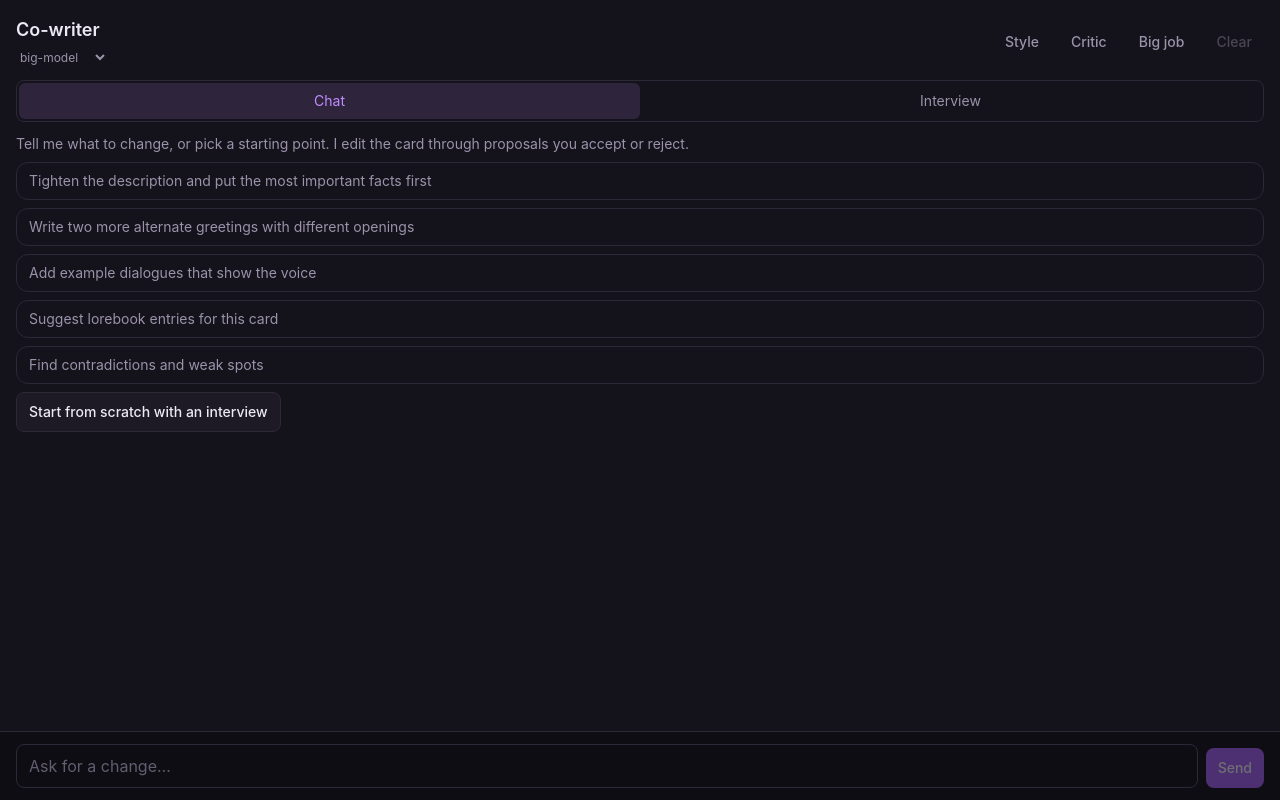
Test: co-writer › shows errors and keeps the chat usable
Type "Hello" into the text box named "Message to the co-writer" at (607, 766), box [16,744,1198,788]
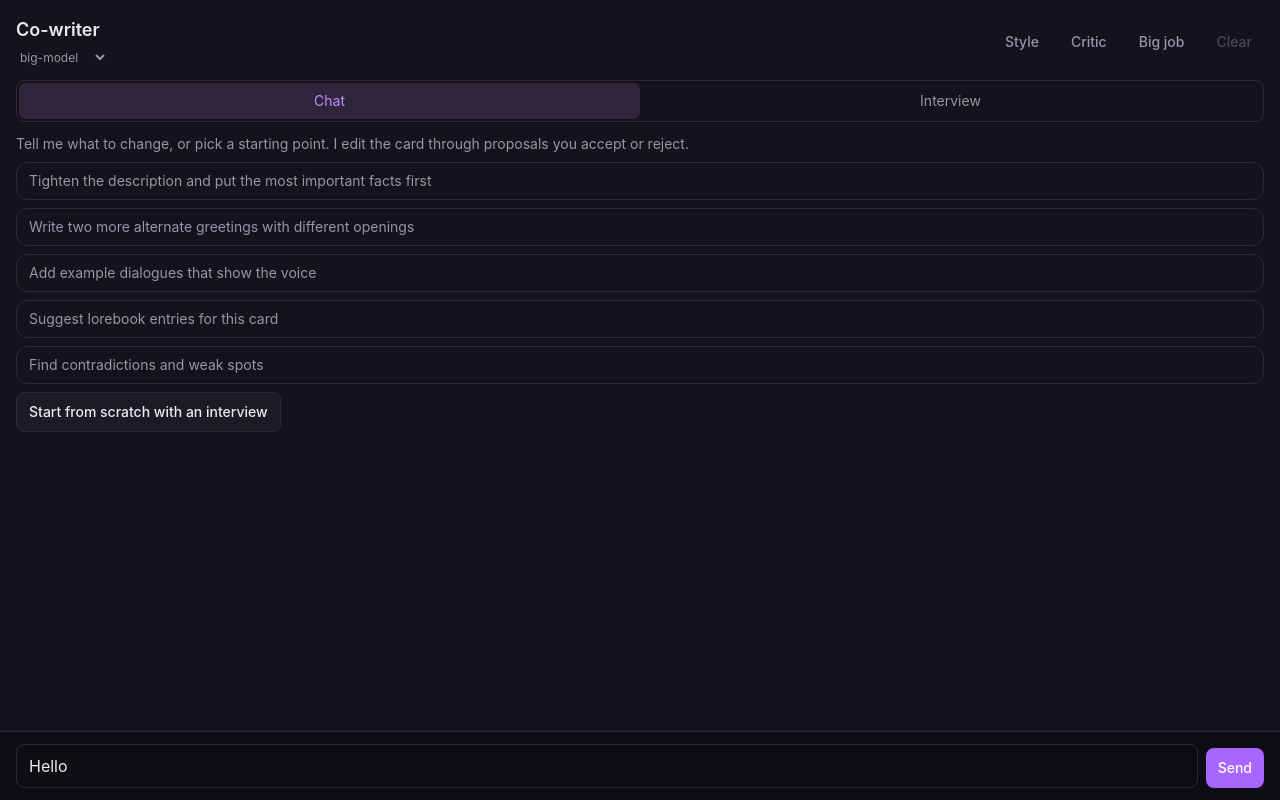
Click the button "Send" at (1235, 768), box [1206,748,1264,788]
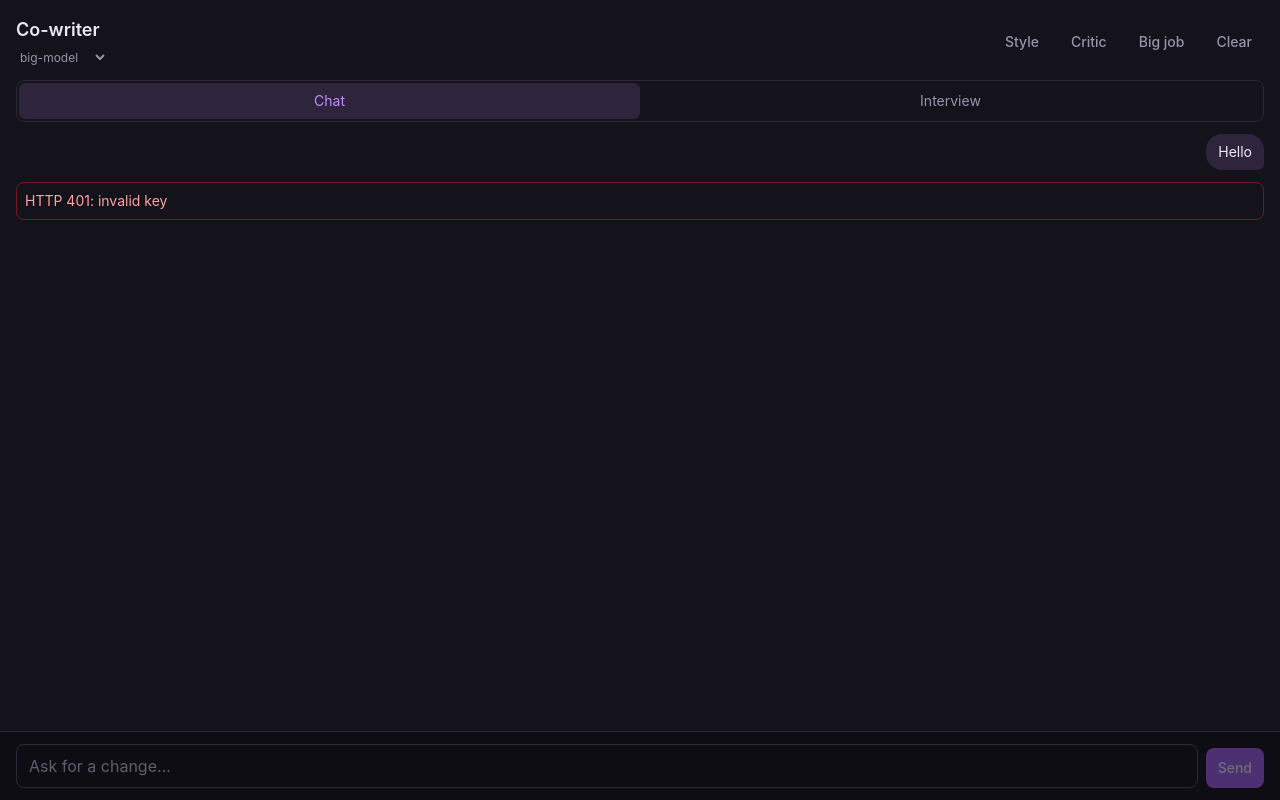
Check: the message shows "invalid key", box [25,192,167,209]
Type "Hello again" into the text box named "Message to the co-writer" at (607, 766), box [16,744,1198,788]
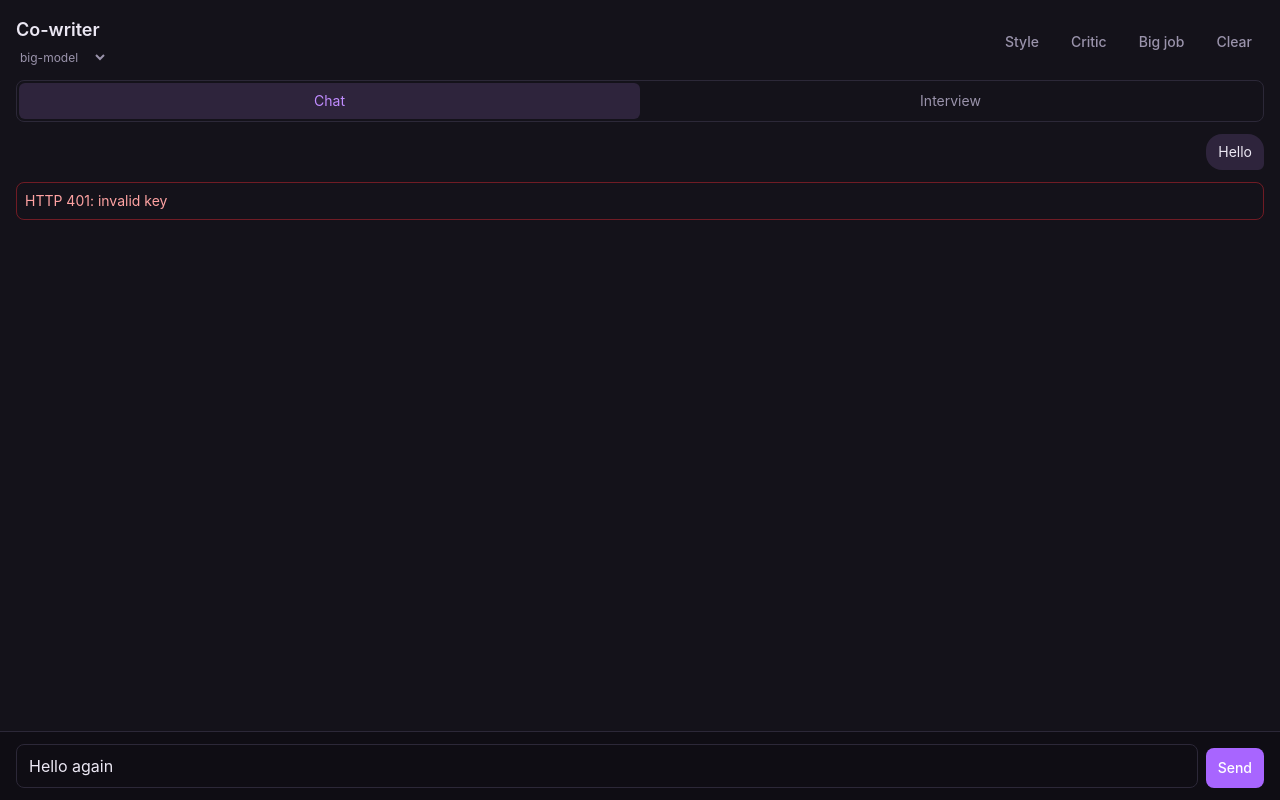
Click the button "Send" at (1235, 768), box [1206,748,1264,788]
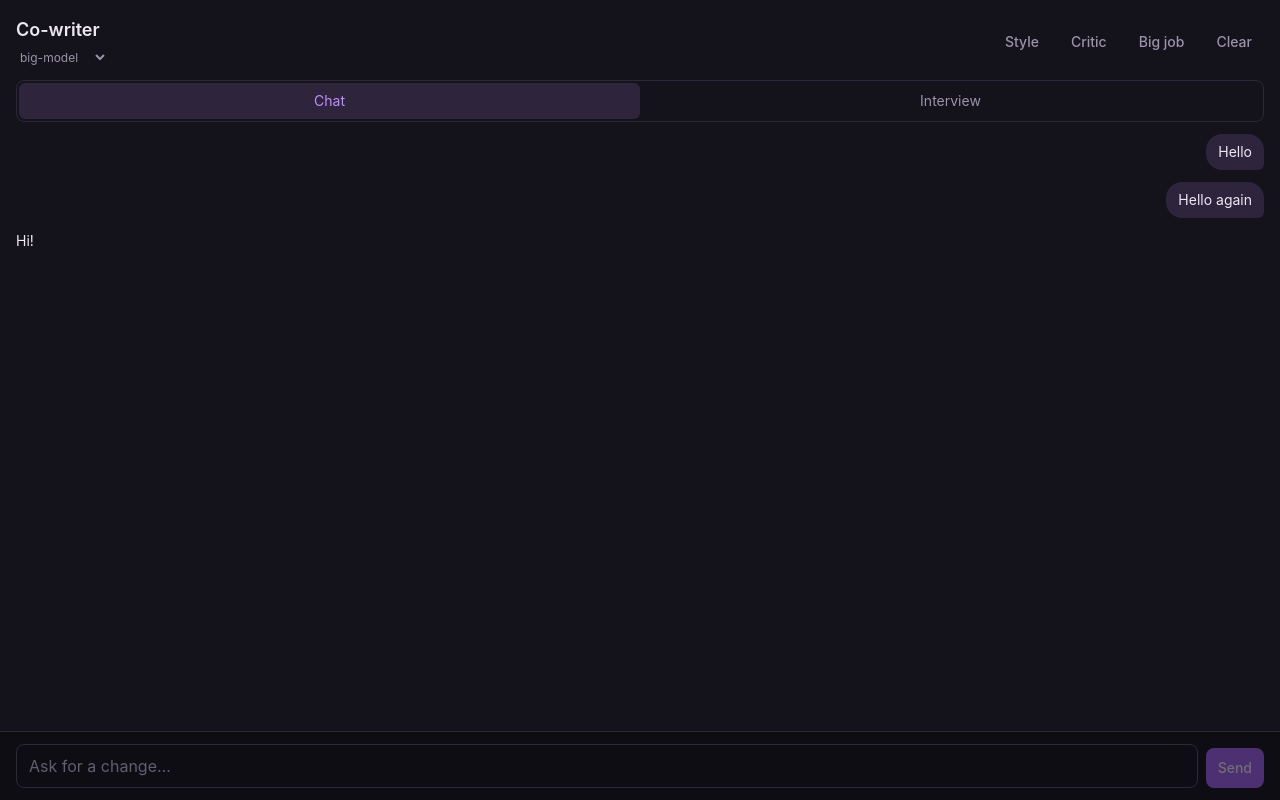
Check: the text "Hi!" is shown, box [16,232,34,249]
